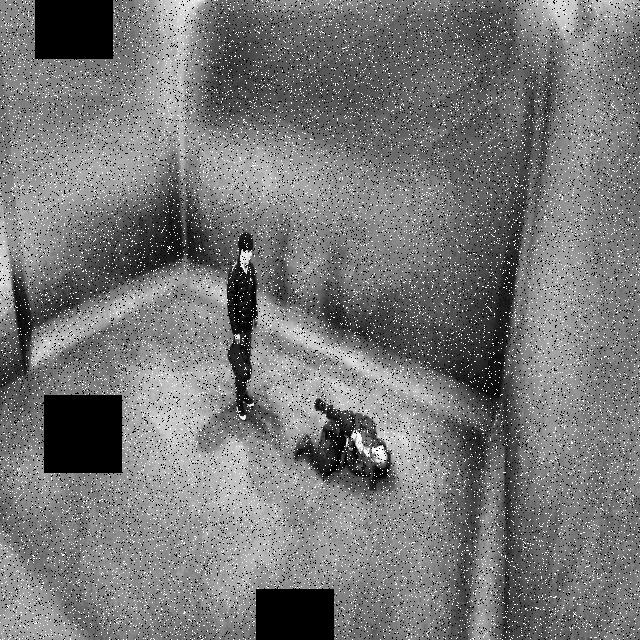assult: (224, 219, 405, 497), (301, 385, 398, 497)
